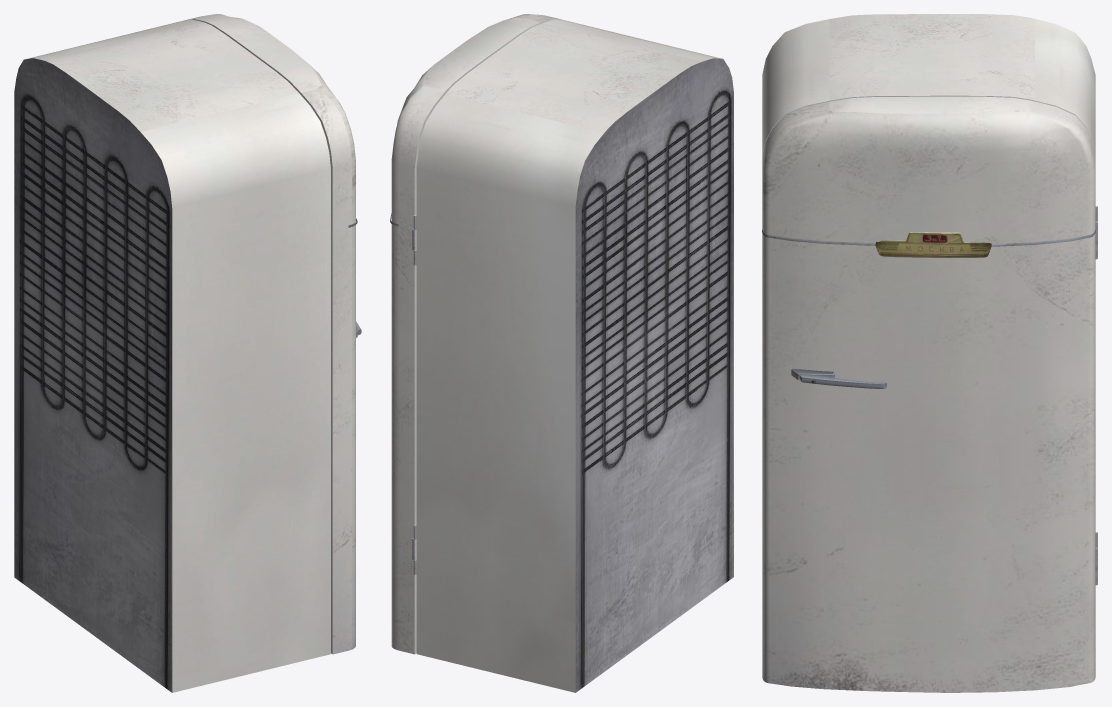
Rendered from fridge.FBX.
3 renders of one model, left to right at view 1: azimuth 30°, elevation 25°; view 2: azimuth 150°, elevation 25°; view 3: azimuth 270°, elevation 25°, orthographic. The views are drawn at different scales.
Visible parts, largest first — view 1: fridge; view 2: fridge; view 3: fridge.
Part boxes in pixels (x1,y1,x2,y2): fridge: [14, 14, 361, 692]; fridge: [390, 14, 733, 692]; fridge: [762, 14, 1097, 692].
Size of the model in its own units: 74.06 by 174 by 92.2.
